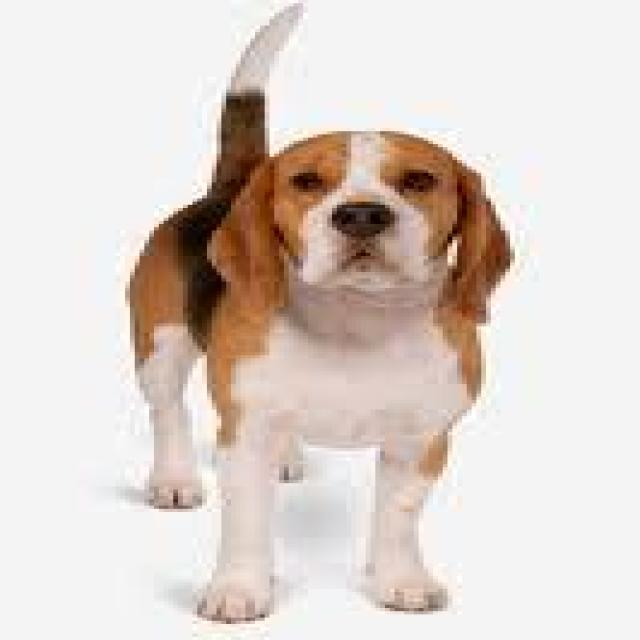Dog: (198, 124, 526, 344)
